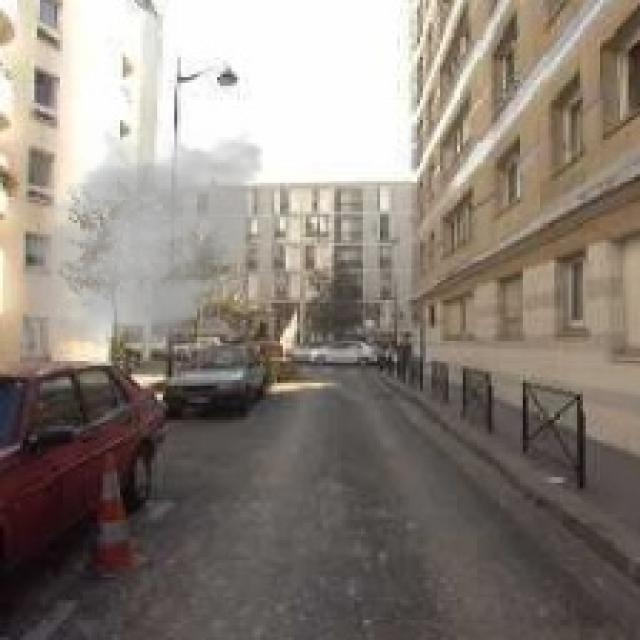smoke: (6, 120, 274, 377)
